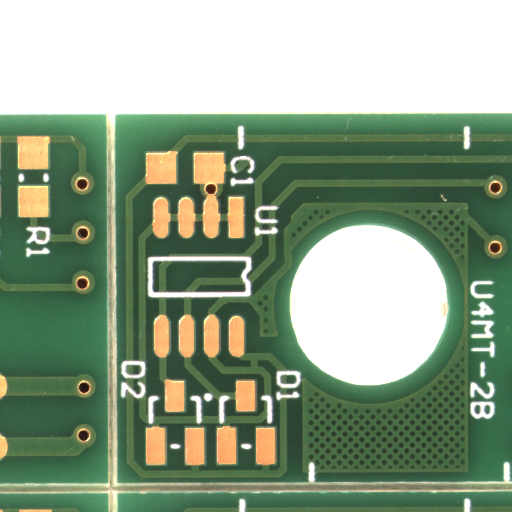Short: (254, 363, 269, 378)
